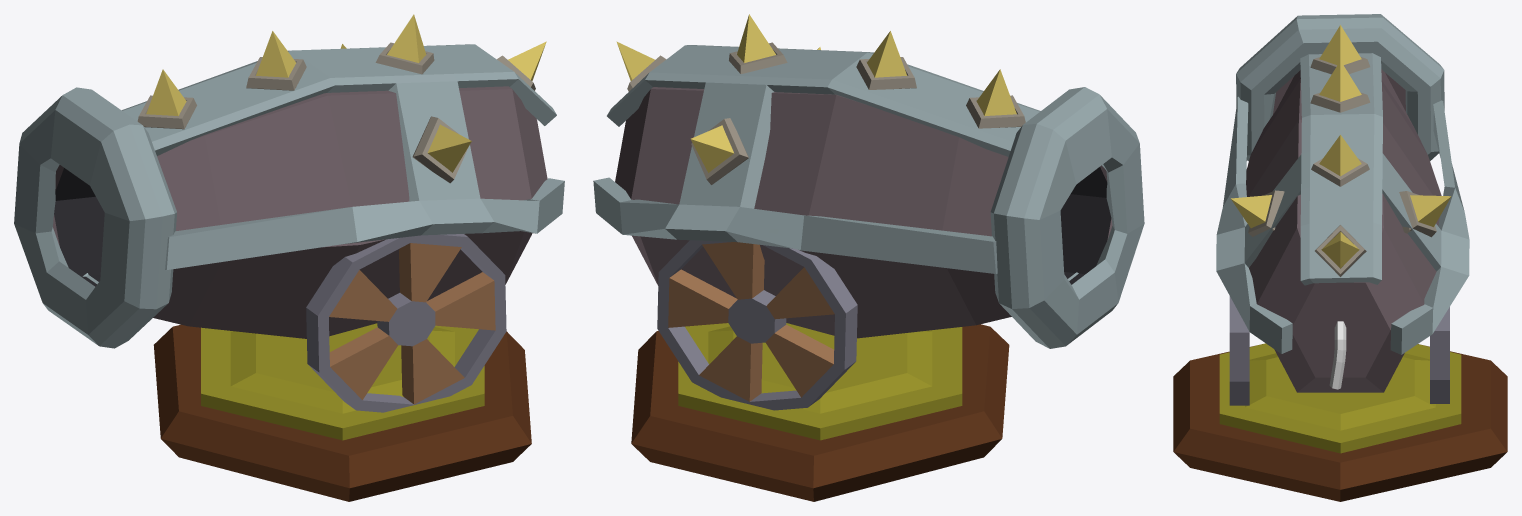
Rendered from Cannon Updated Update.fbx.
The picture shows the model from 3 angles, left to right: view 1: azimuth 30°, elevation 25°; view 2: azimuth 150°, elevation 25°; view 3: azimuth 270°, elevation 25°; orthographic projection. The views are drawn at different scales.
Parts seen in each view (by area): view 1: Top, Torus.001, Base, Torus.006, Torus.003, Torus.002, Torus.005, Torus.004; view 2: Top, Torus.001, Base, Torus.007, Torus.003, Torus.002, Torus.005, Torus.004; view 3: Torus.001, Base, Top, Torus.003, Torus.005, Torus.007, Torus.002, Torus.006, Torus.004.
Part boxes in pixels (x1,y1,x2,y2): Top: (53, 86, 547, 412); Torus.001: (14, 44, 564, 348); Base: (153, 323, 531, 501); Torus.006: (412, 116, 471, 183); Torus.003: (246, 31, 306, 90); Torus.002: (137, 69, 196, 129); Torus.005: (375, 14, 434, 74); Torus.004: (497, 41, 546, 90); Top: (615, 87, 1112, 410); Torus.001: (593, 45, 1144, 348); Base: (631, 323, 1009, 501); Torus.007: (690, 118, 748, 184); Torus.003: (856, 31, 916, 89); Torus.002: (966, 69, 1025, 128); Torus.005: (729, 14, 787, 73); Torus.004: (616, 41, 666, 91); Torus.001: (1216, 14, 1469, 354); Base: (1173, 343, 1507, 501); Top: (1229, 69, 1449, 405); Torus.003: (1310, 60, 1370, 112); Torus.005: (1311, 134, 1369, 186); Torus.007: (1399, 191, 1451, 237); Torus.002: (1310, 25, 1370, 74); Torus.006: (1230, 190, 1284, 236); Torus.004: (1315, 225, 1366, 276).
Bounding box in the file's own units: 475 × 379 × 333.
